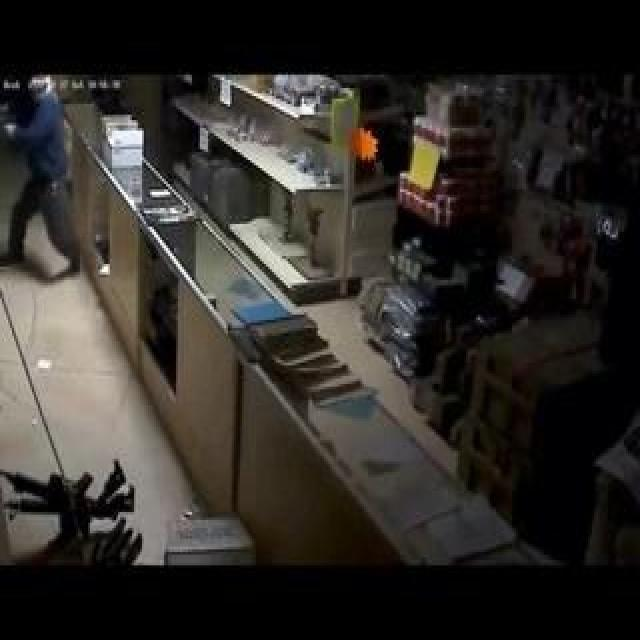thief: (24, 70, 106, 222)
